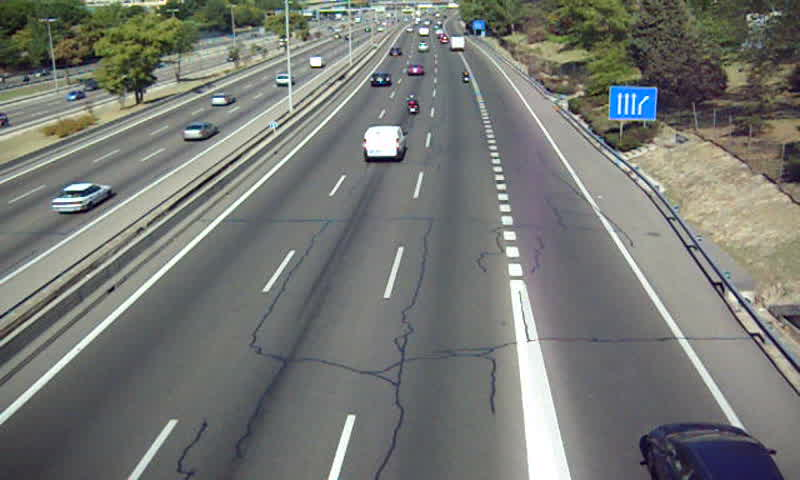car: (369, 70, 393, 87), (405, 65, 423, 78)
motorcycle: (404, 94, 420, 116), (461, 68, 471, 87)
van: (363, 126, 405, 163), (451, 35, 465, 52)
